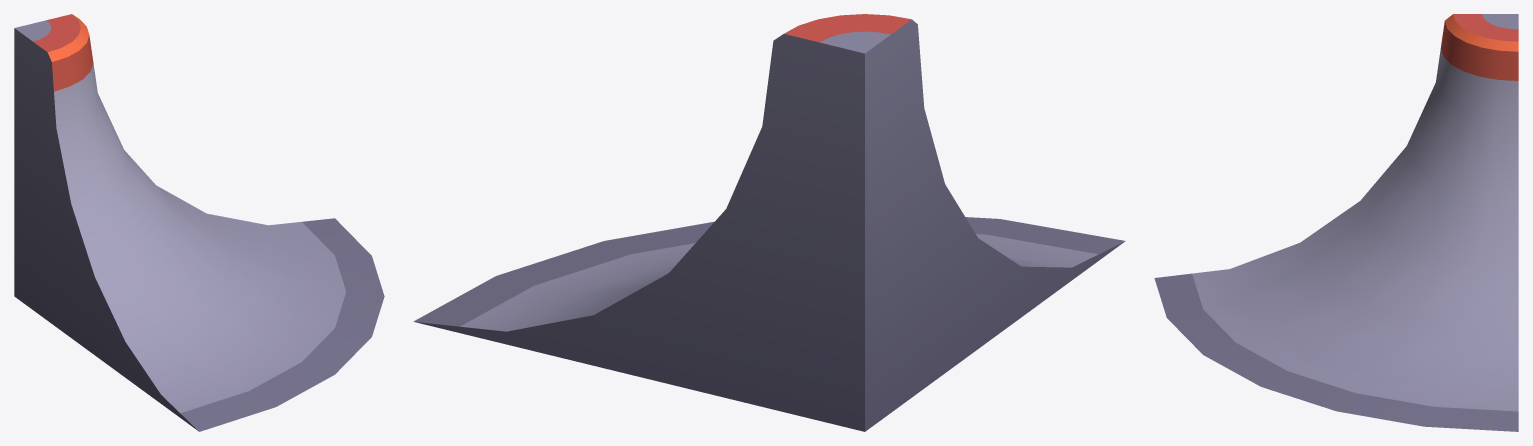
File: bowl-corner-outer.fbx
The picture shows the model from 3 angles, left to right: view 1: azimuth 30°, elevation 25°; view 2: azimuth 150°, elevation 25°; view 3: azimuth 270°, elevation 25°; orthographic projection. The views are drawn at different scales.
Visible parts, largest first — view 1: bowl-corner-outer; view 2: bowl-corner-outer; view 3: bowl-corner-outer.
Part boxes in pixels (<box>): bowl-corner-outer: <box>14,14,384,431</box>; bowl-corner-outer: <box>413,14,1125,431</box>; bowl-corner-outer: <box>1154,14,1518,431</box>.
Bounding box in the file's own units: 100 × 80 × 100.
1 material, 1 textured.
